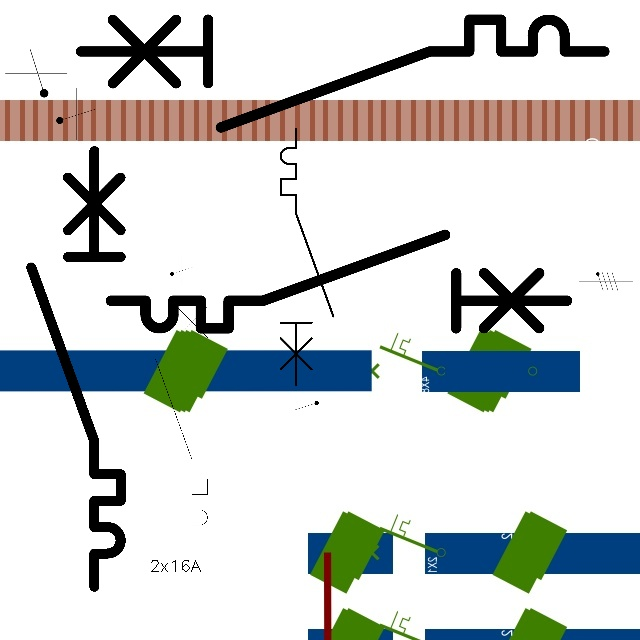interruptor_termomagnetico: (67, 6, 617, 140), (99, 223, 579, 340), (20, 139, 132, 597), (274, 122, 340, 391), (149, 285, 214, 551)
